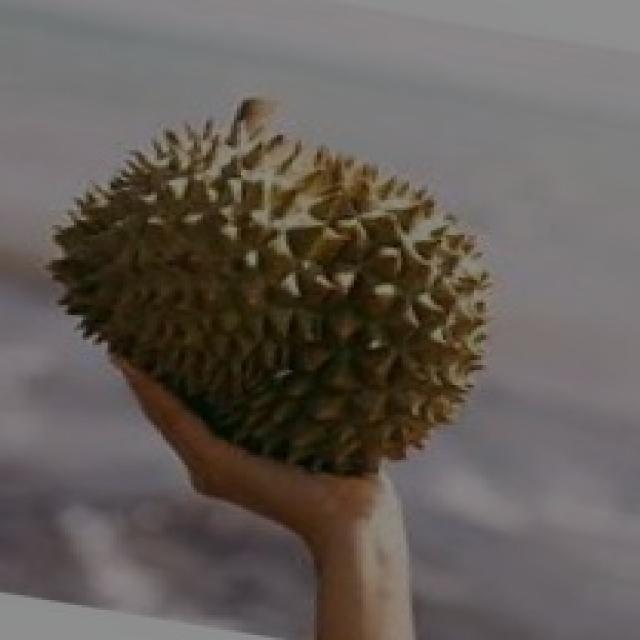fruit: (12, 88, 391, 490)
